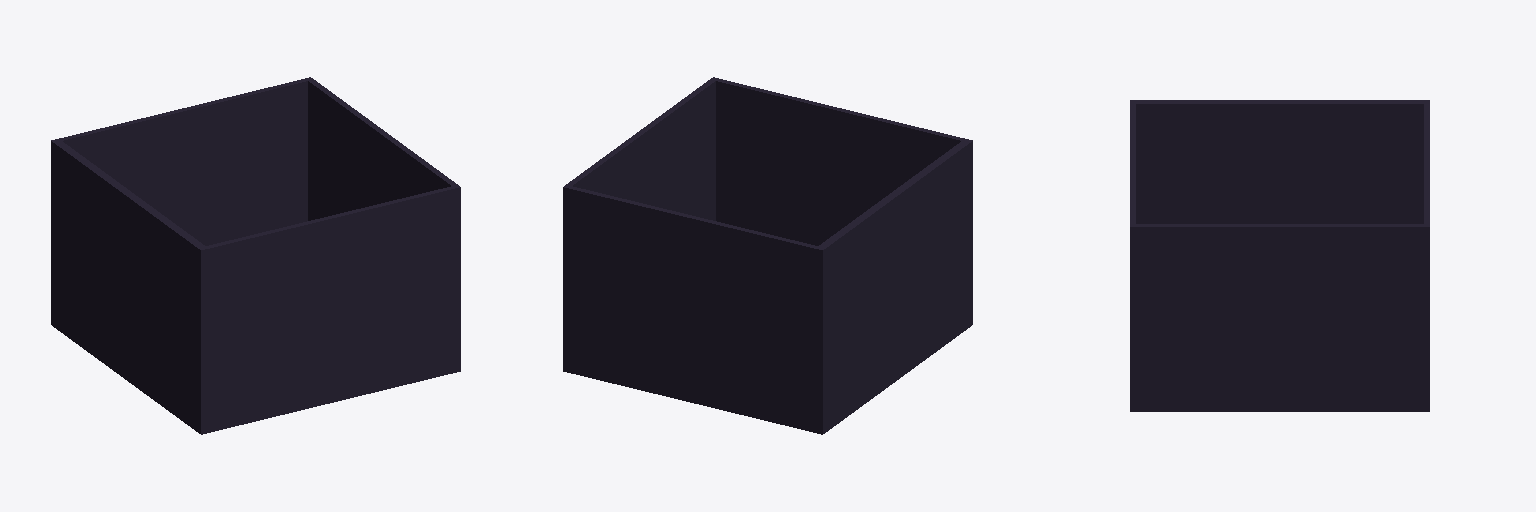
File: test_open_room.obj
The picture shows the model from 3 angles: view 1: azimuth 30°, elevation 25°; view 2: azimuth 150°, elevation 25°; view 3: azimuth 270°, elevation 25°; orthographic projection.
Parts seen in each view (by area): view 1: Cube; view 2: Cube; view 3: Cube.
Part boxes in pixels (bbox=[...]): Cube: bbox=[51, 77, 460, 434]; Cube: bbox=[563, 77, 972, 434]; Cube: bbox=[1130, 100, 1429, 411].
Bounding box in the file's own units: 13.72 × 9.28 × 13.72.